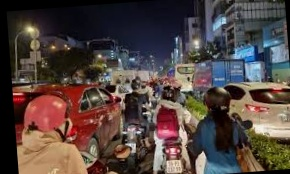Bien-so: (152, 151, 169, 166), (111, 134, 122, 145), (274, 114, 286, 122)
